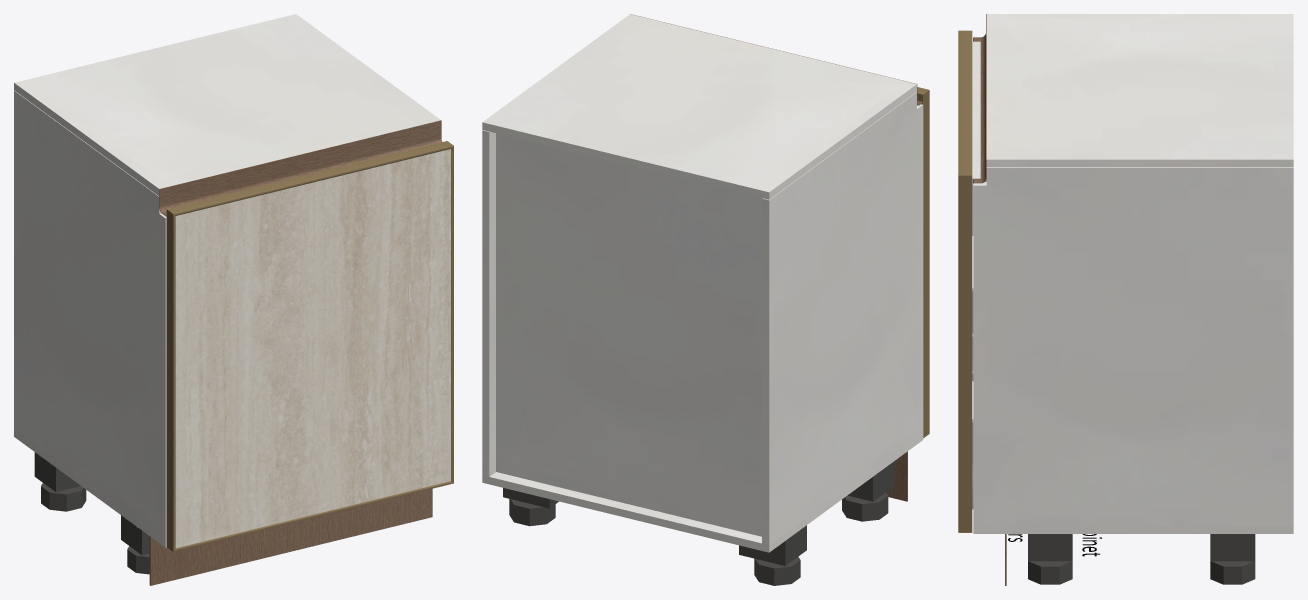
Rendered from BC-GD-CJ-ST-1BL-1HF-XXX-600-720-560-15.glb.
3 renders of one model, left to right at view 1: azimuth 30°, elevation 25°; view 2: azimuth 150°, elevation 25°; view 3: azimuth 270°, elevation 25°, orthographic. The views are drawn at different scales.
Parts seen in each view (by area): view 1: Object_node_60, TP_node, TP_node_1, Object_node_62, ExtrSplGeo, Extrusion_node_1, Extrusion, TP, Extrusion_node_0, Extrusion_node, Foot, Plate (+1 smaller); view 2: TP_node_7, TP_node, TP_node_1, TP, TP_node_0, Extrusion_node_1, Plate, Foot, Foot_node_0, Foot_node, Plate_node_0, Object_node_62; view 3: TP_node_0, TP_node_1, Extrusion_node, TP, Extrusion, TP_node_6, Plate_node, Plate_node_1, ExtrSplGeo, Foot_node, Foot_node_1.
Part boxes in pixels (x1=…): Object_node_60: x1=175, y1=149, x2=450, y2=547; TP_node: x1=14, y1=90, x2=166, y2=540; TP_node_1: x1=14, y1=14, x2=440, y2=195; Object_node_62: x1=149, y1=488, x2=432, y2=585; ExtrSplGeo: x1=159, y1=120, x2=442, y2=216; Extrusion_node_1: x1=166, y1=209, x2=175, y2=551; Extrusion: x1=167, y1=141, x2=453, y2=215; TP: x1=14, y1=429, x2=166, y2=547; Extrusion_node_0: x1=174, y1=481, x2=453, y2=551; Extrusion_node: x1=451, y1=146, x2=453, y2=483; Foot: x1=41, y1=483, x2=86, y2=511; Plate: x1=34, y1=452, x2=80, y2=491; TP_node_7: x1=496, y1=133, x2=762, y2=536; TP_node: x1=762, y1=92, x2=923, y2=544; TP_node_1: x1=482, y1=14, x2=916, y2=199; TP: x1=482, y1=433, x2=923, y2=552; TP_node_0: x1=482, y1=130, x2=495, y2=476; Extrusion_node_1: x1=917, y1=90, x2=929, y2=437; Plate: x1=739, y1=525, x2=806, y2=565; Foot: x1=754, y1=556, x2=800, y2=585; Foot_node_0: x1=842, y1=492, x2=888, y2=521; Foot_node: x1=509, y1=499, x2=555, y2=526; Plate_node_0: x1=847, y1=461, x2=894, y2=501; Object_node_62: x1=886, y1=451, x2=907, y2=501; TP_node_0: x1=973, y1=167, x2=1293, y2=526; TP_node_1: x1=986, y1=14, x2=1293, y2=167; Extrusion_node: x1=958, y1=175, x2=972, y2=532; TP: x1=973, y1=526, x2=1293, y2=533; Extrusion: x1=958, y1=30, x2=972, y2=175; TP_node_6: x1=972, y1=41, x2=980, y2=235; Plate_node: x1=1210, y1=534, x2=1255, y2=561; Plate_node_1: x1=1028, y1=534, x2=1072, y2=561; ExtrSplGeo: x1=973, y1=14, x2=986, y2=183; Foot_node: x1=1210, y1=561, x2=1255, y2=584; Foot_node_1: x1=1028, y1=561, x2=1072, y2=584.
Size of what is drawn, in the model's own units: 0.6 by 0.82 by 0.5842.
Materials: 8 (3 with a texture image).
